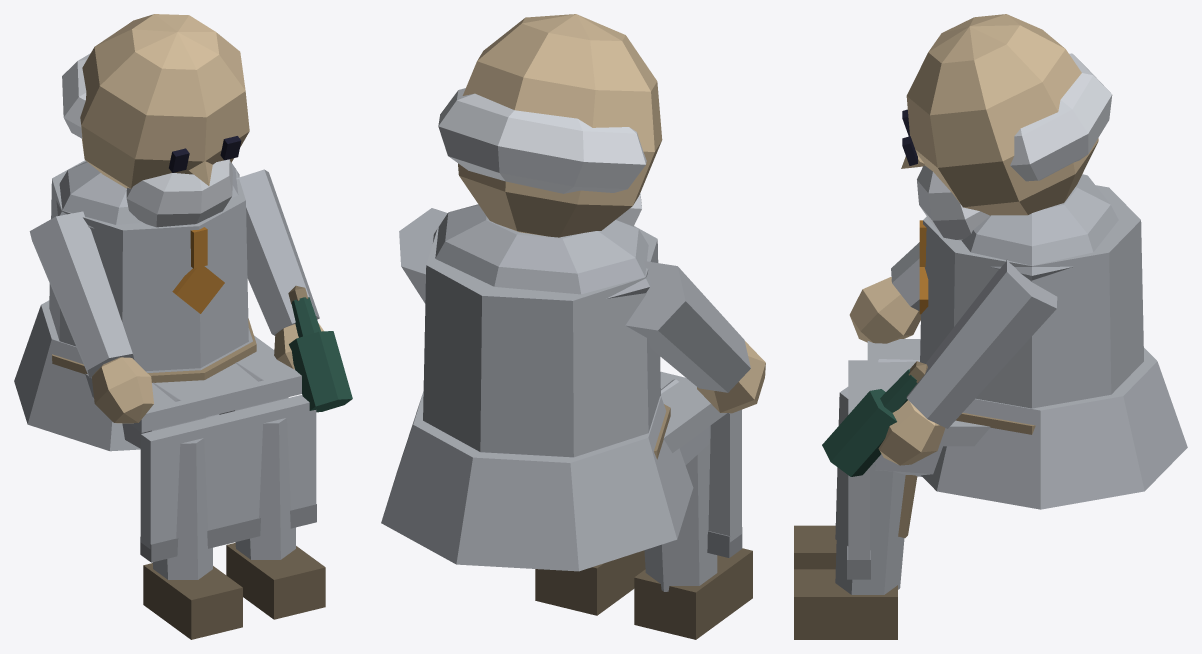
The model's file is aldous_seated.glb.
3 renders of one model, left to right at view 1: azimuth 30°, elevation 25°; view 2: azimuth 150°, elevation 25°; view 3: azimuth 270°, elevation 25°, orthographic. The views are drawn at different scales.
Parts seen in each view (by area): view 1: Torso, Head, LegR, LegL, ArmR, ArmL; view 2: Torso, Head, LegR, ArmR, LegL, ArmL; view 3: Torso, Head, ArmL, LegL, LegR, ArmR.
Boxes of the visible parts, x1,y1,x2,y2 form: Torso: (14,160,256,451); Head: (62,14,249,227); LegR: (85,373,242,639); LegL: (205,335,325,619); ArmR: (29,211,153,423); ArmL: (236,169,352,412); Torso: (381,204,693,571); Head: (438,14,662,237); LegR: (634,371,752,639); ArmR: (625,261,765,413); LegL: (535,550,645,615); ArmL: (399,208,447,303); Torso: (898,174,1187,537); Head: (901,14,1112,240); ArmL: (822,259,1057,476); LegL: (794,382,990,639); LegR: (794,339,920,569); ArmR: (849,242,920,343).
Bounding box in the file's own units: 0.7027 × 1.48 × 0.91.
